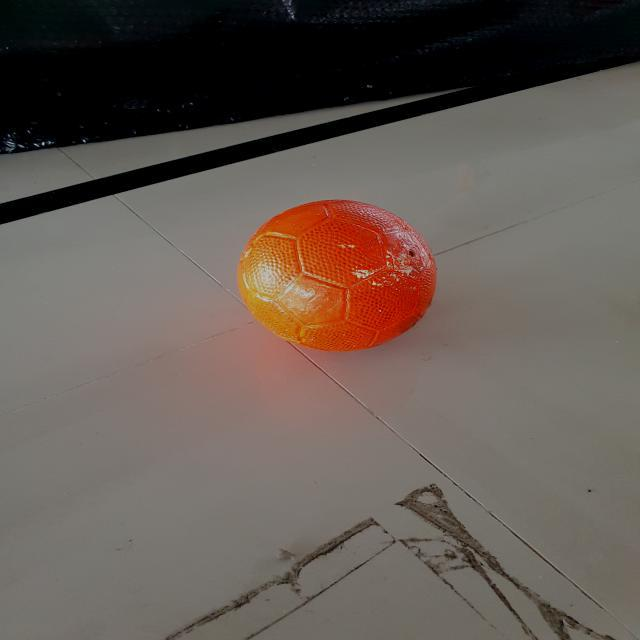bola: (242, 195, 451, 358)
